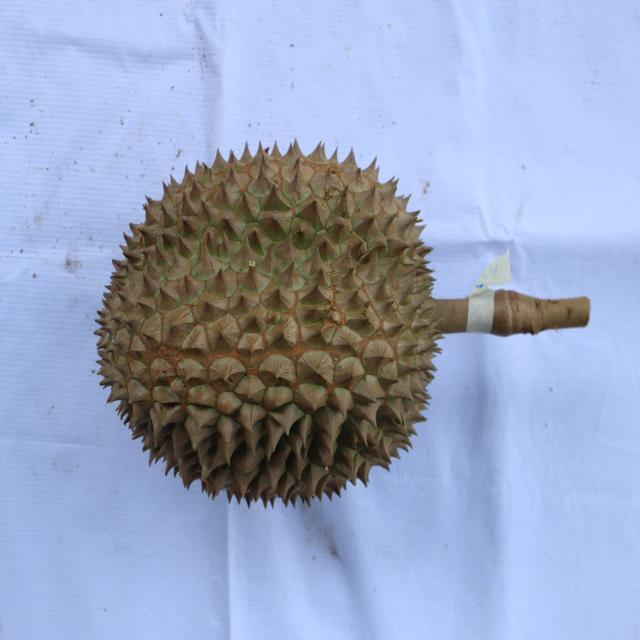mature: (92, 134, 444, 508)
